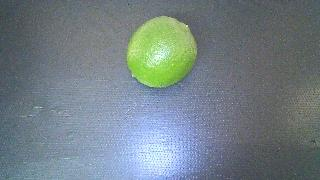EXPORTACION: (127, 16, 197, 88)
